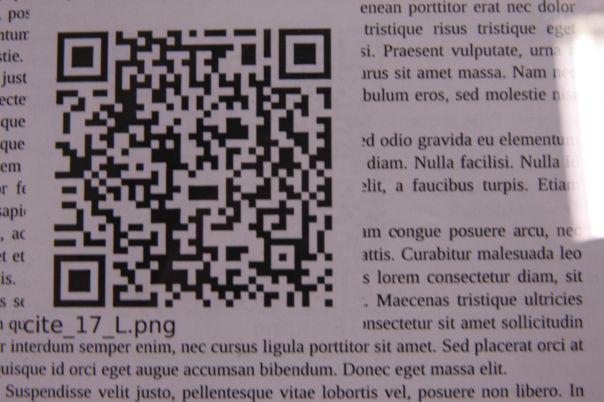Finder pattern: (273, 24, 337, 84), (49, 251, 110, 312), (53, 27, 114, 88)
